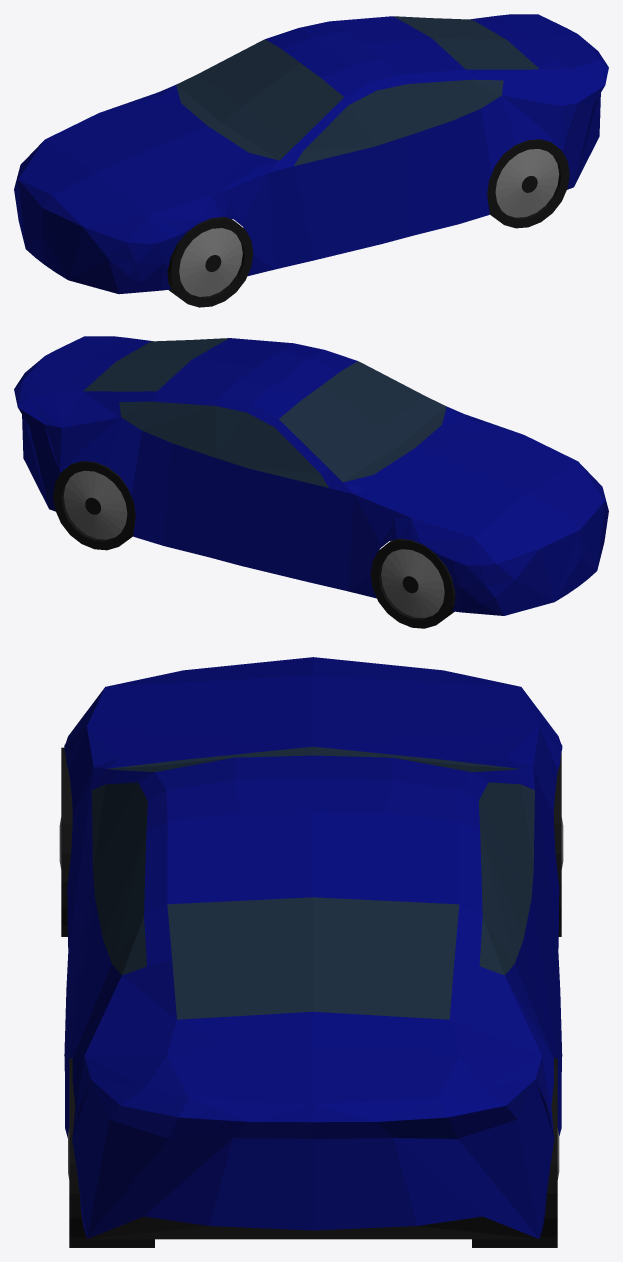
Rendered from bolidbmw2.fbx.
3 views of the same model, one above another, from view 1: azimuth 30°, elevation 25°; view 2: azimuth 150°, elevation 25°; view 3: azimuth 270°, elevation 25° (orthographic). The views are drawn at different scales.
Parts seen in each view (by area): view 1: bolid_bmw8, wheel.012, wheel.013; view 2: bolid_bmw8, wheel.010, wheel.011; view 3: bolid_bmw8, wheel.011, wheel.013, wheel.012, wheel.010.
Boxes of the visible parts, box(x1,y1,x2,y2) form: bolid_bmw8: box(14, 14, 608, 294); wheel.012: box(167, 216, 253, 307); wheel.013: box(487, 139, 569, 228); bolid_bmw8: box(14, 336, 608, 615); wheel.010: box(370, 538, 455, 628); wheel.011: box(53, 461, 135, 550); bolid_bmw8: box(64, 657, 562, 1239); wheel.011: box(472, 1058, 559, 1247); wheel.013: box(68, 1058, 154, 1247); wheel.012: box(59, 747, 72, 936); wheel.010: box(554, 752, 563, 936).
Bounding box in the file's own units: 511 × 148 × 206.
